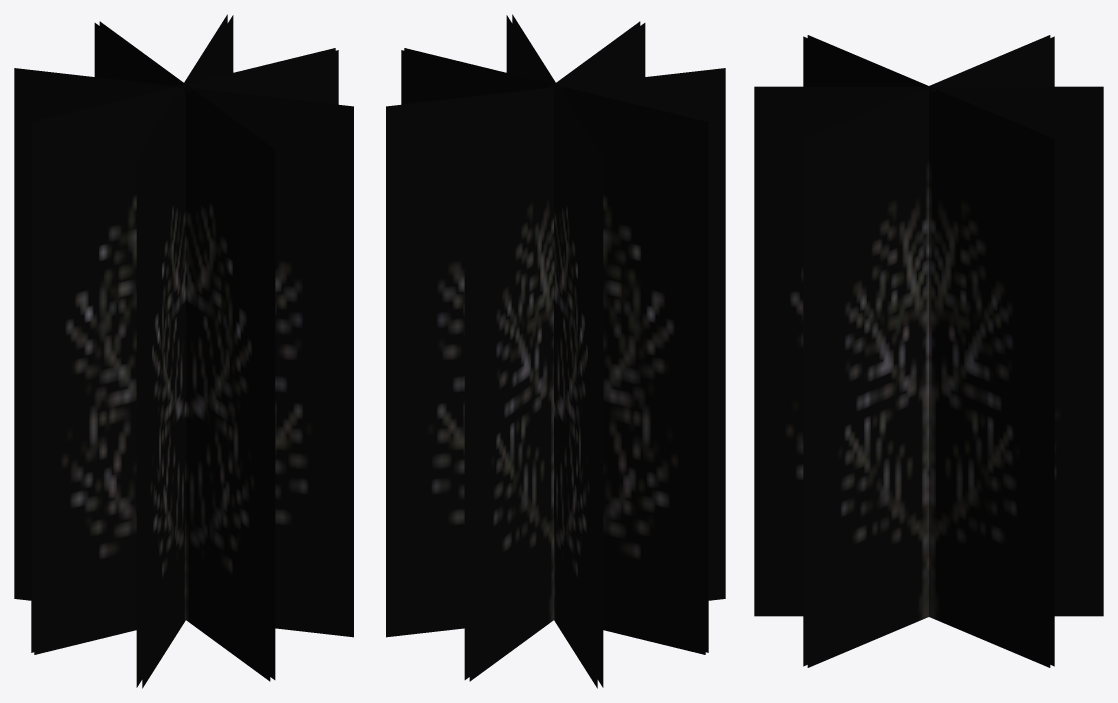
Rendered from bush04_winter.gltf.
3 renders of one model, left to right at view 1: azimuth 30°, elevation 25°; view 2: azimuth 150°, elevation 25°; view 3: azimuth 270°, elevation 25°, orthographic.
Parts seen in each view (by area): view 1: bush4_winter; view 2: bush4_winter; view 3: bush4_winter.
Part boxes in pixels (x1,y1,x2,y2): bush4_winter: [14, 14, 353, 688]; bush4_winter: [386, 14, 725, 688]; bush4_winter: [754, 35, 1103, 667].
Size of the model in its own units: 0.6 by 1 by 0.6.
Materials: 1 (1 with a texture image).
